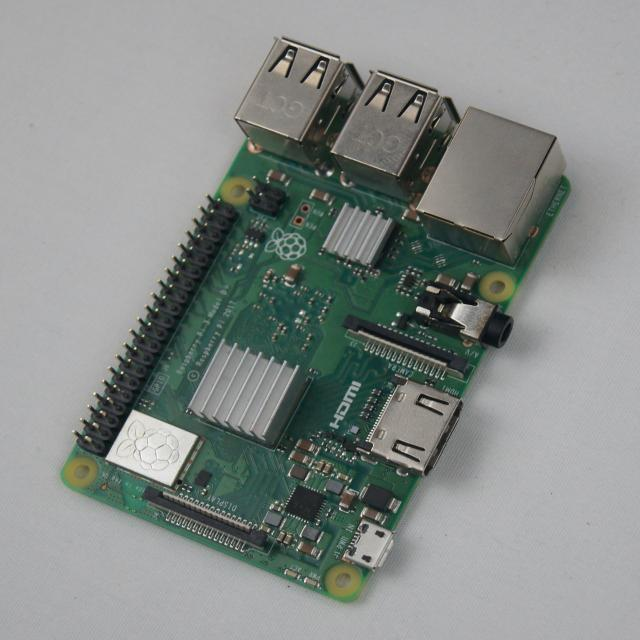Raspberry Pi 3 B-: (62, 38, 569, 600)
